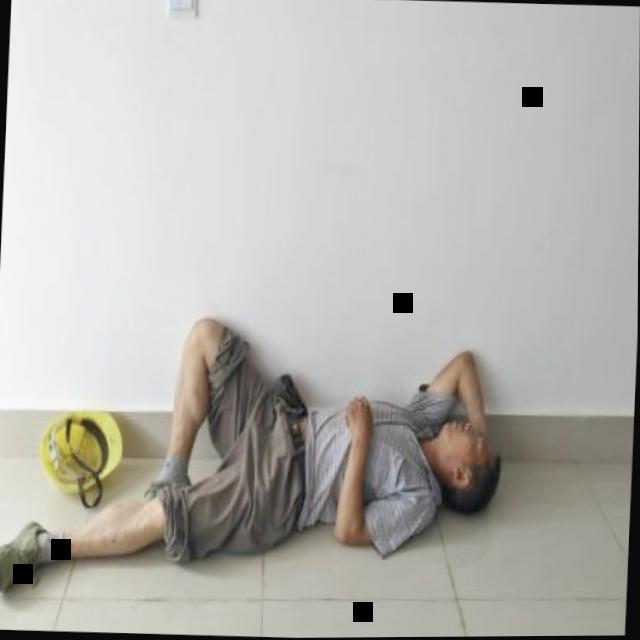Fall-Detected: (0, 275, 514, 608)
